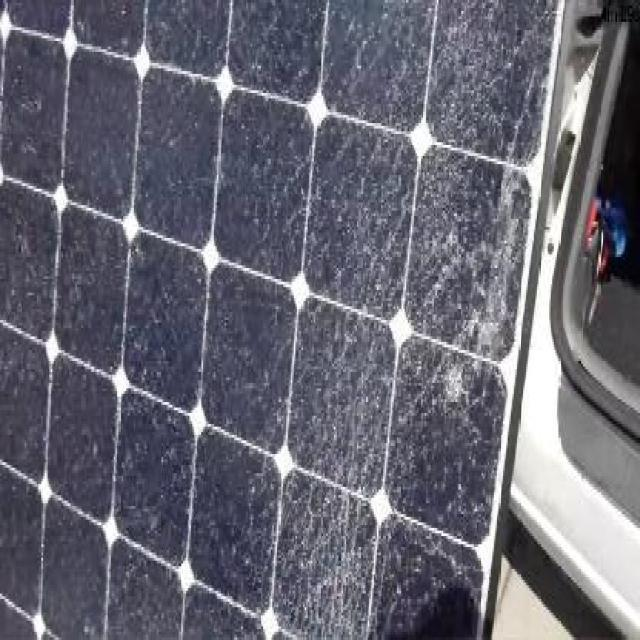cracked: (3, 5, 534, 640)
